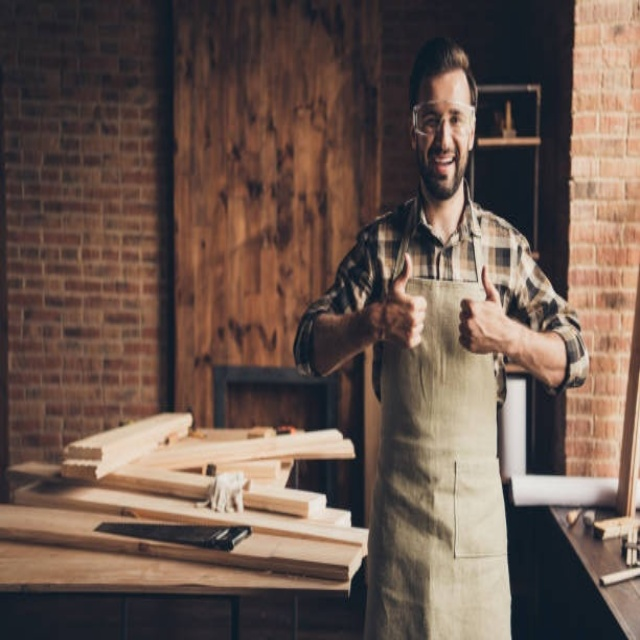Gafas: (412, 102, 475, 138)
Sin_guantes: (366, 251, 427, 352), (456, 264, 514, 357)
Sin_mascara: (430, 147, 460, 184)
